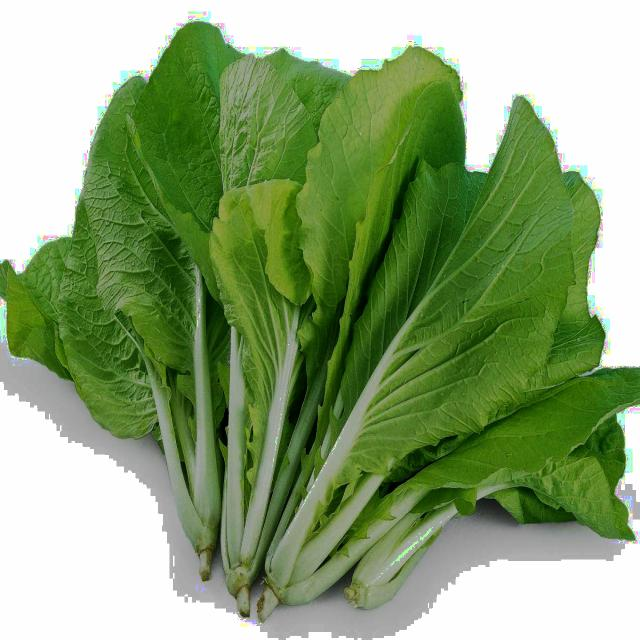chinese_cabbage: (12, 40, 620, 612)
